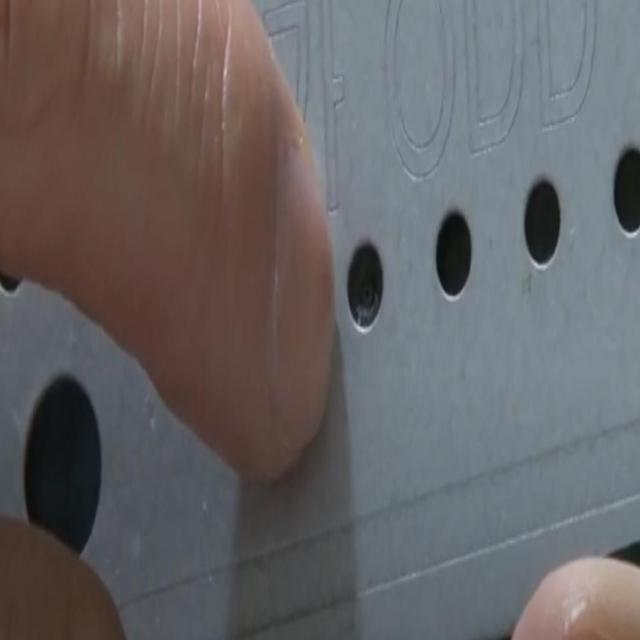hidden camera: (359, 275, 375, 311)
